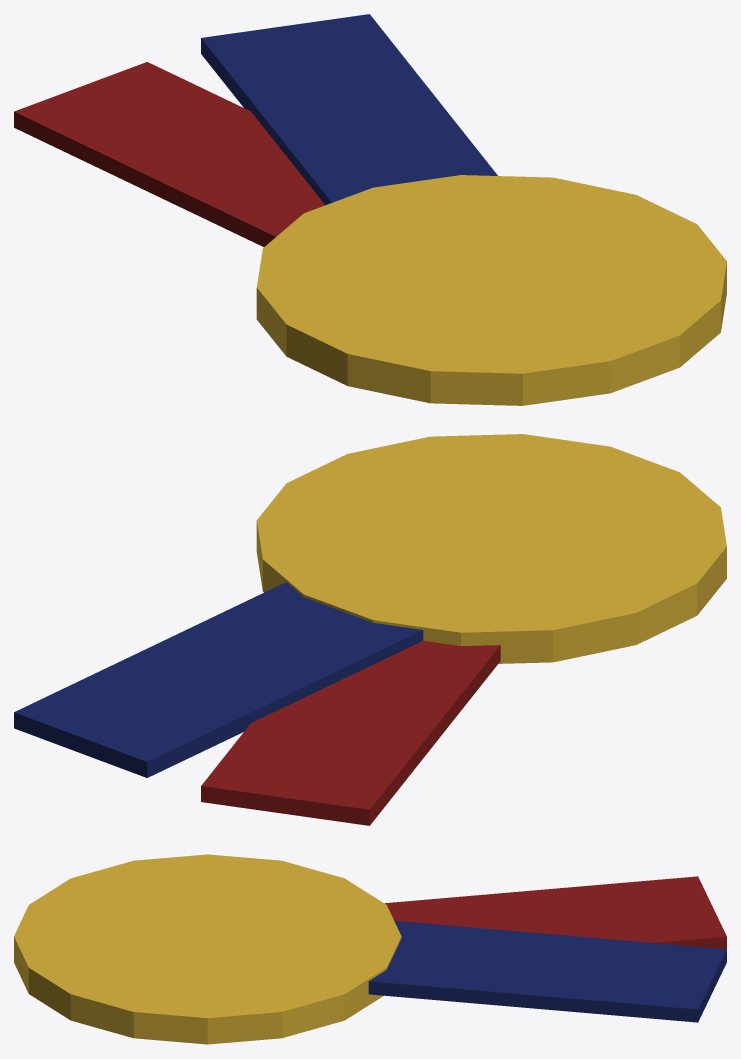
File: TownFind_school.glb
3 renders of one model, top to bottom at view 1: azimuth 30°, elevation 25°; view 2: azimuth 150°, elevation 25°; view 3: azimuth 270°, elevation 25°, orthographic. The views are drawn at different scales.
Parts seen in each view (by area): view 1: TownFind_school.001; view 2: TownFind_school.001; view 3: TownFind_school.001.
Boxes of the visible parts, x1,y1,x2,y2 form: TownFind_school.001: [14, 14, 726, 405]; TownFind_school.001: [14, 434, 726, 825]; TownFind_school.001: [14, 854, 726, 1044].
Bounding box in the file's own units: 0.08 × 0.006 × 0.1472.
